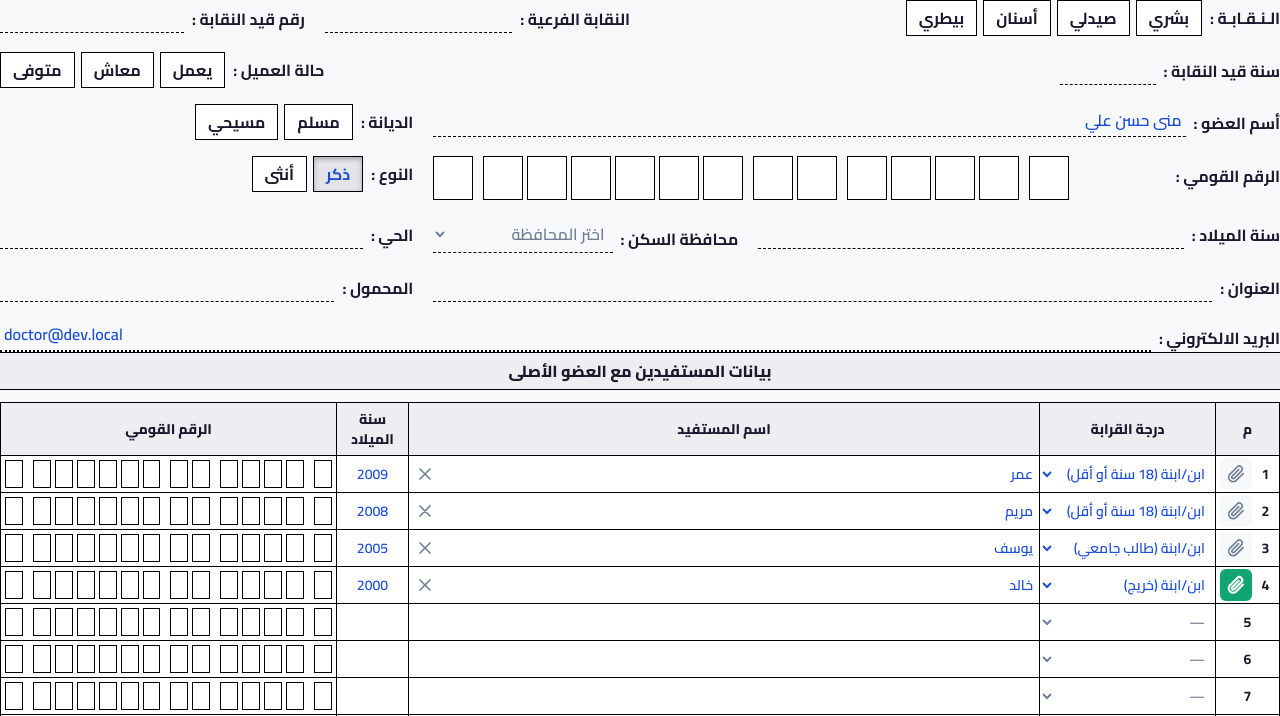
Test: children's document slots follow the member's gender › male → female: every child kinship gets its birth certificate, without a reload; edits survive
Click the radio button labelled "أنثى" at (279, 174), box [252,156,307,192]
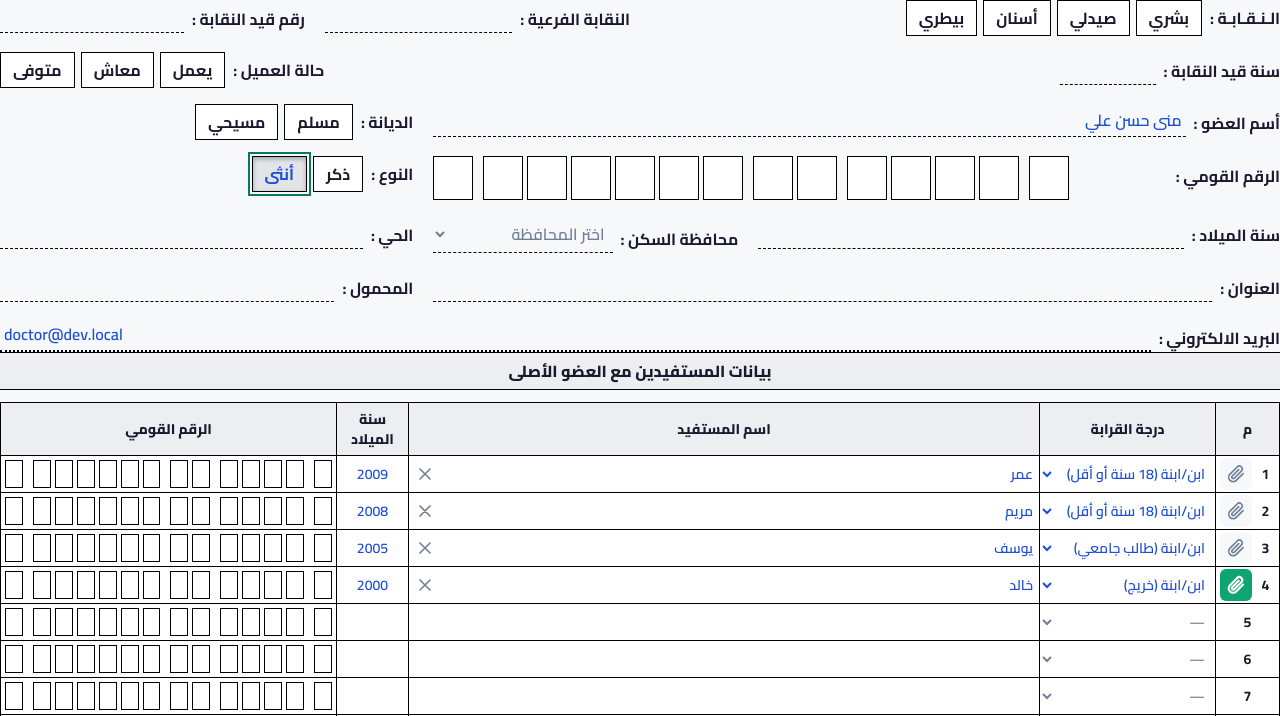
Type "شارع النيل" into the field labelled "العنوان :" at (823, 286), box [433,269,1212,302]
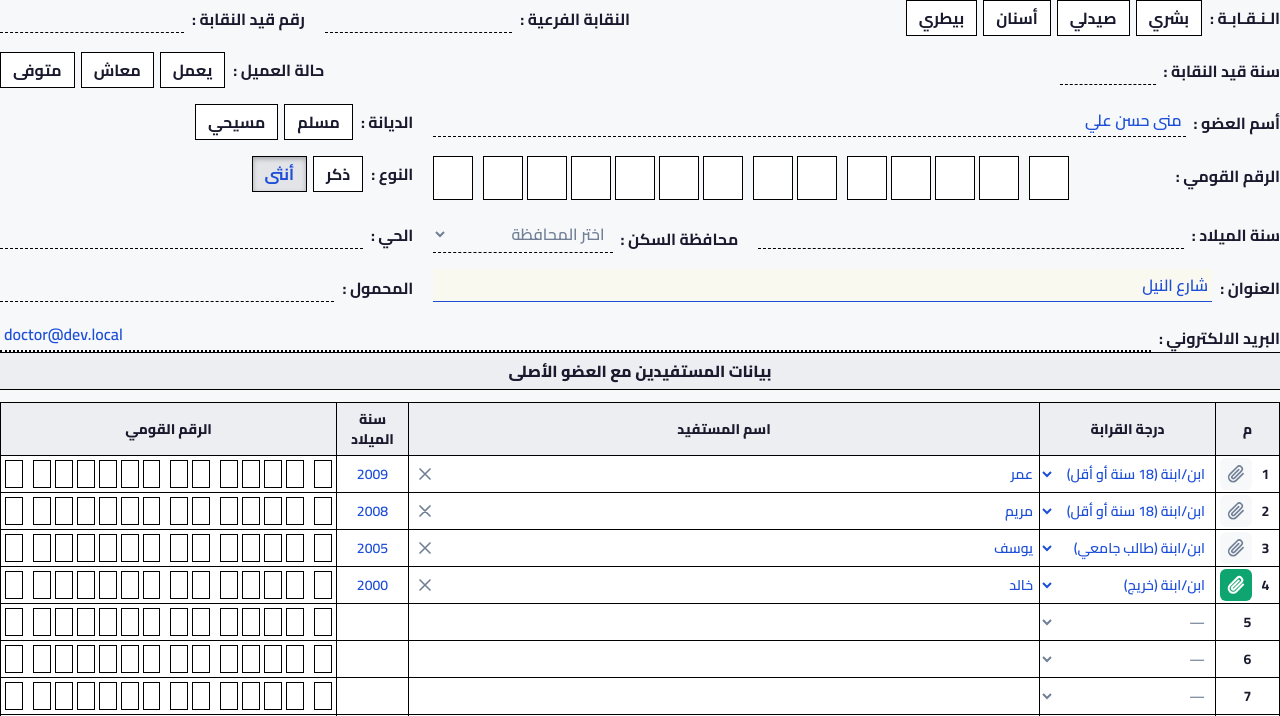
Type "سلمى" into the field named "اسم المستفيد — المستفيد رقم 5" at (724, 622), box [409,608,1039,636]
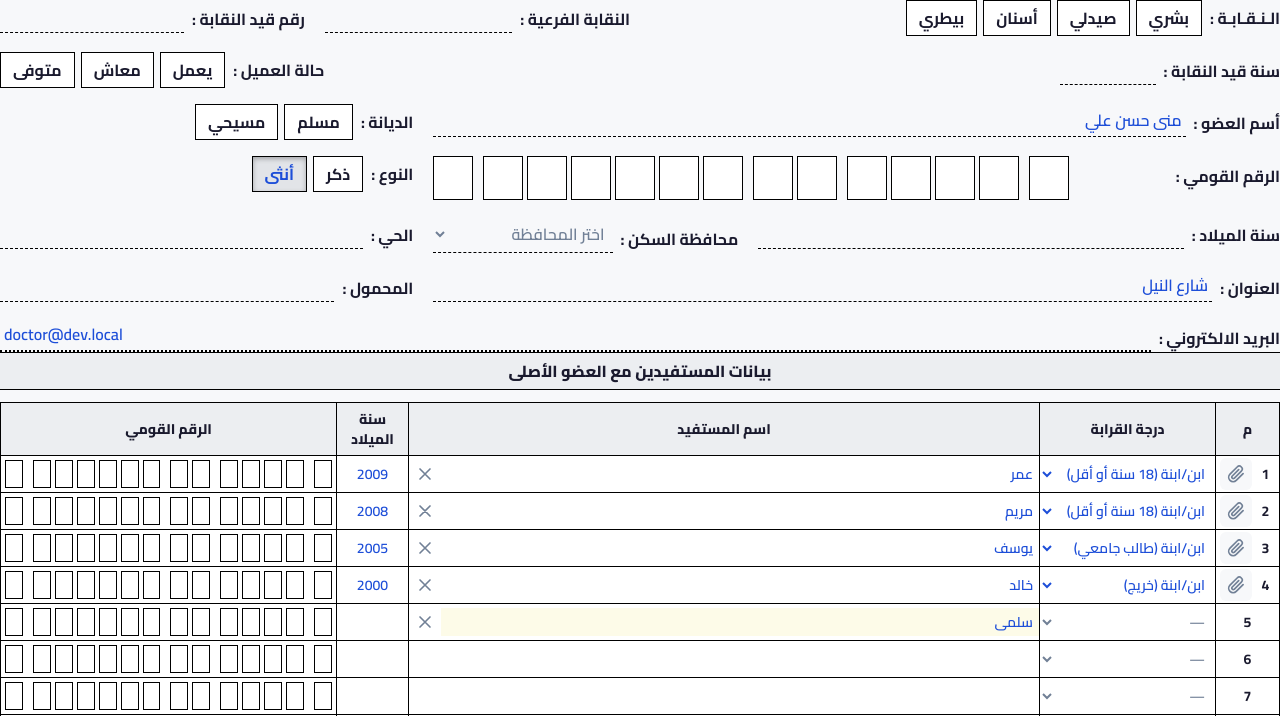
Click the button named "مستندات المستفيد رقم 3 — مستندات ناقصة" at (1236, 548), box [1220,532,1252,564]
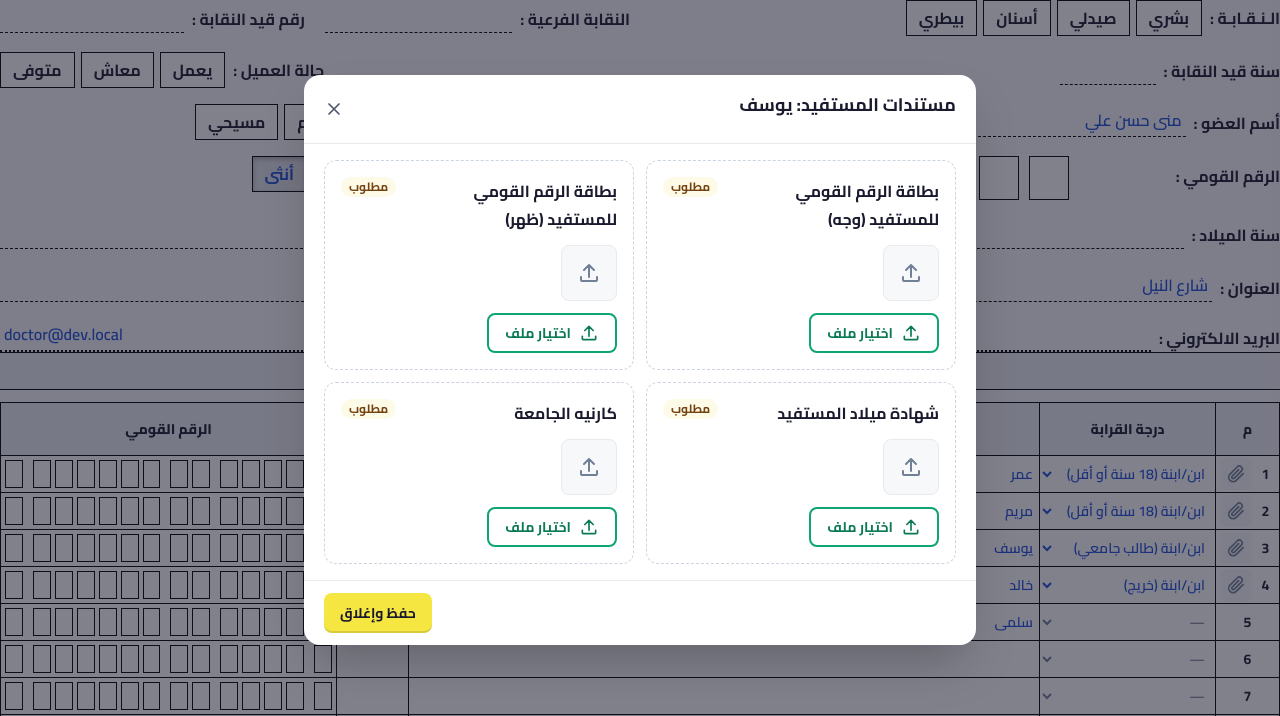
Expected: the text "شهادة ميلاد المستفيد" is shown, [777,398,939,428]
